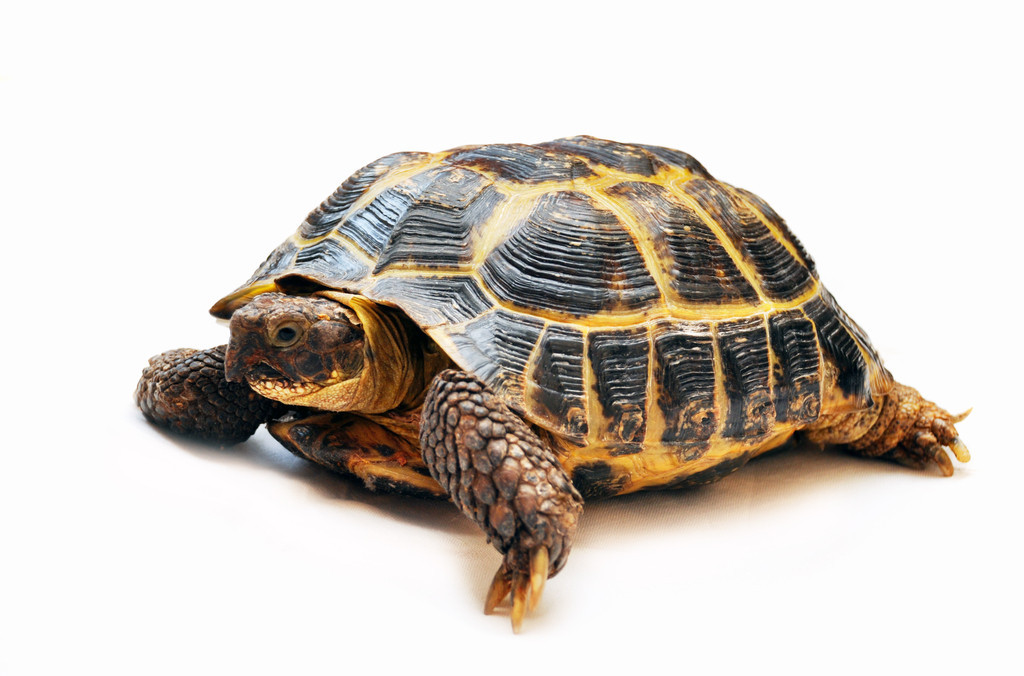tortoise: (128, 132, 973, 639)
